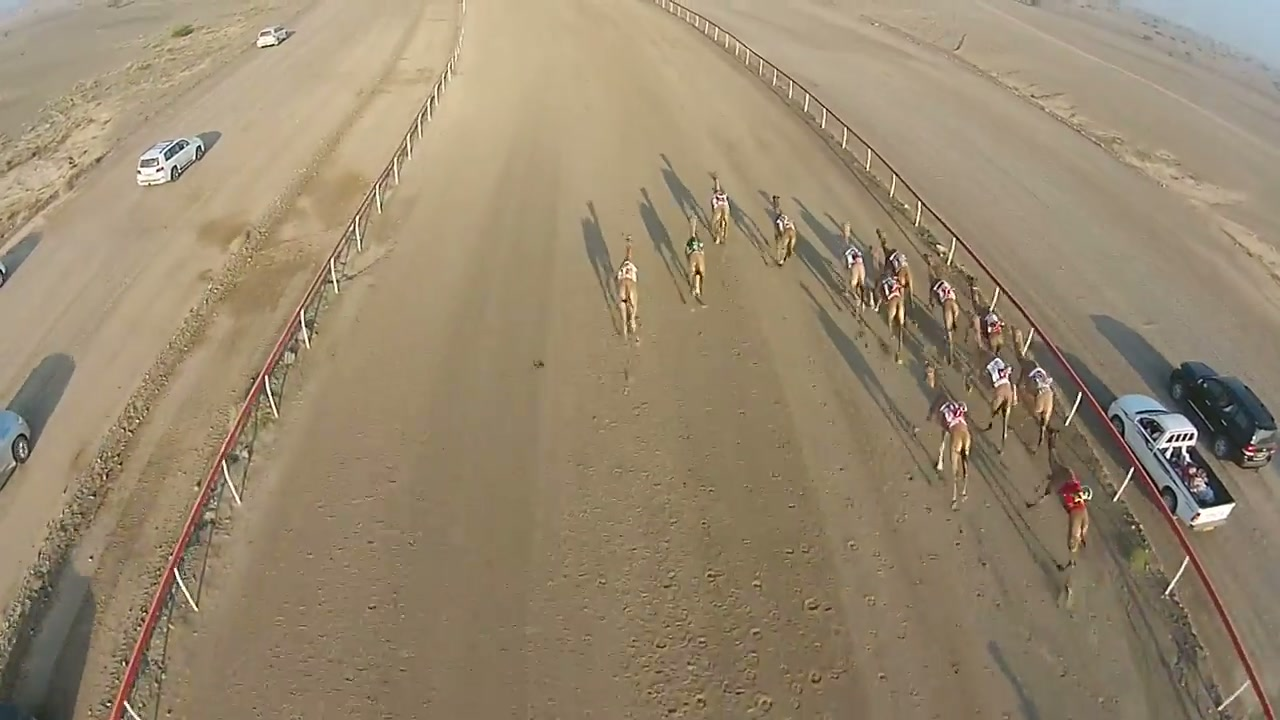animal_footprint: (564, 332, 935, 719), (279, 443, 427, 701)
